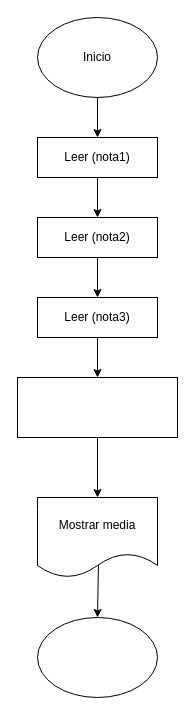
Image size: 195x715. Some labels were removed from this diagram. Here are the shapes that lost their labels. From the top down, the centre of each, then its label:
the point at 97,407: Calcular media
the point at 97,657: Fin
